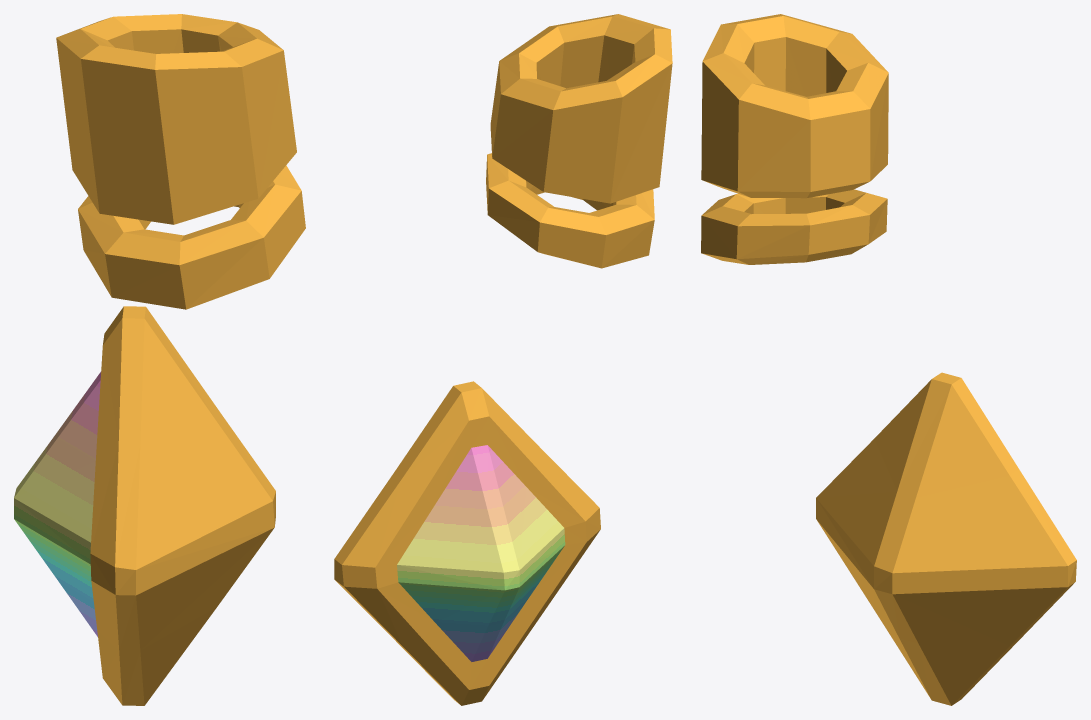
Rendered from CharSkyKid_Horn_RainbowEarring_01.glb.
3 renders of one model, left to right at view 1: azimuth 30°, elevation 25°; view 2: azimuth 150°, elevation 25°; view 3: azimuth 270°, elevation 25°, orthographic. The views are drawn at different scales.
Parts seen in each view (by area): view 1: CharSkyKid_Horn_RainbowEarring_01; view 2: CharSkyKid_Horn_RainbowEarring_01; view 3: CharSkyKid_Horn_RainbowEarring_01.
Part boxes in pixels (<box>): CharSkyKid_Horn_RainbowEarring_01: <box>14,14,305,705</box>; CharSkyKid_Horn_RainbowEarring_01: <box>334,14,672,705</box>; CharSkyKid_Horn_RainbowEarring_01: <box>701,14,1076,705</box>.
Bounding box in the file's own units: 0.3724 × 1.04 × 0.5564.
1 material, 1 textured.
